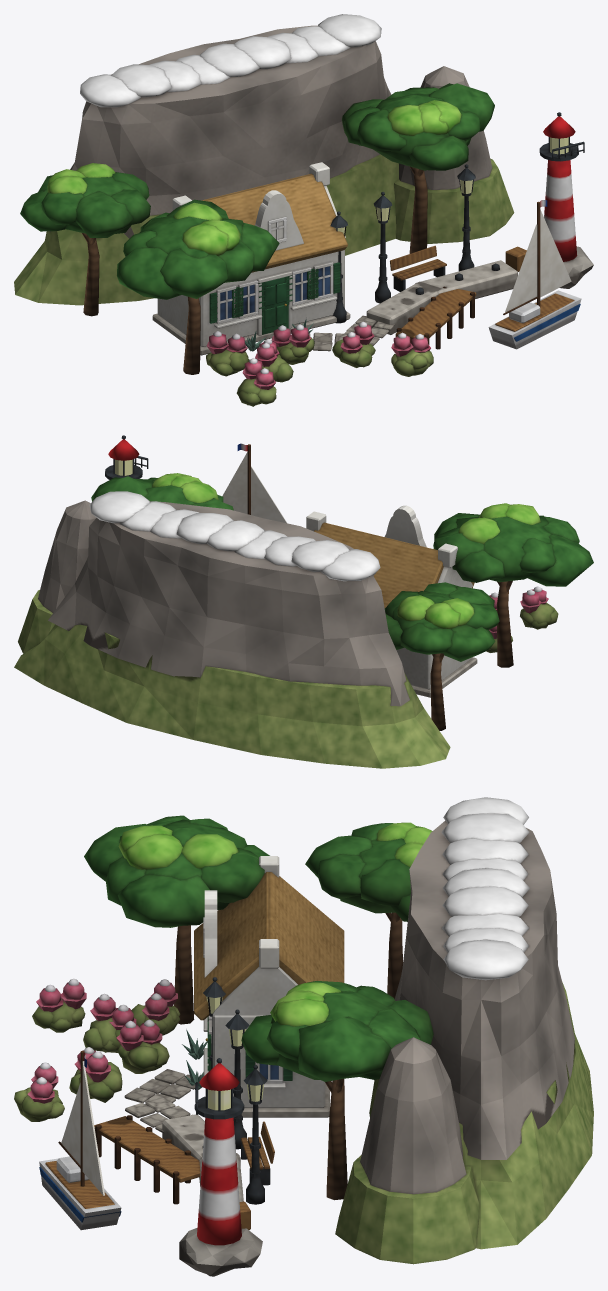
Rendered from CapeTownHarbor_Buildings.fbx.
3 renders of one model, top to bottom at view 1: azimuth 30°, elevation 25°; view 2: azimuth 150°, elevation 25°; view 3: azimuth 270°, elevation 25°, orthographic. The views are drawn at different scales.
Visible parts, largest first — view 1: S02_TableMountain, S04_CapeDutchHouse, S08_UmbrellaTree_0, S08_UmbrellaTree_1, S08_UmbrellaTree_2, S09_ProteaGarden, S03_LionsHead, S01_HarborPier, S07_Sailboat, S05_ThatchedRoof, S10_HarborLamps, S06_Lighthouse; view 2: S02_TableMountain, S08_UmbrellaTree_0, S08_UmbrellaTree_2, S03_LionsHead, S05_ThatchedRoof, S04_CapeDutchHouse, S08_UmbrellaTree_1, S07_Sailboat, S09_ProteaGarden, S06_Lighthouse; view 3: S02_TableMountain, S03_LionsHead, S08_UmbrellaTree_0, S08_UmbrellaTree_1, S09_ProteaGarden, S05_ThatchedRoof, S04_CapeDutchHouse, S06_Lighthouse, S08_UmbrellaTree_2, S01_HarborPier, S07_Sailboat, S10_HarborLamps.
Part boxes in pixels (x1,y1,x2,y2): S02_TableMountain: (14, 14, 398, 305); S04_CapeDutchHouse: (152, 162, 350, 355); S08_UmbrellaTree_0: (117, 199, 279, 374); S08_UmbrellaTree_1: (342, 83, 494, 253); S08_UmbrellaTree_2: (20, 163, 150, 316); S09_ProteaGarden: (206, 319, 433, 406); S03_LionsHead: (394, 66, 514, 243); S01_HarborPier: (308, 260, 517, 351); S07_Sailboat: (488, 200, 581, 349); S05_ThatchedRoof: (201, 173, 347, 272); S10_HarborLamps: (330, 164, 526, 323); S06_Lighthouse: (539, 112, 593, 288); S02_TableMountain: (14, 491, 450, 768); S08_UmbrellaTree_0: (433, 503, 593, 667); S08_UmbrellaTree_2: (384, 582, 499, 730); S03_LionsHead: (18, 500, 96, 653); S05_ThatchedRoof: (314, 522, 474, 607); S04_CapeDutchHouse: (306, 505, 477, 697); S08_UmbrellaTree_1: (91, 473, 233, 510); S07_Sailboat: (222, 443, 286, 523); S09_ProteaGarden: (486, 586, 558, 652); S06_Lighthouse: (105, 435, 148, 479); S02_TableMountain: (369, 797, 593, 1249); S03_LionsHead: (335, 1037, 479, 1264); S08_UmbrellaTree_0: (84, 815, 269, 1024); S08_UmbrellaTree_1: (241, 981, 433, 1200); S09_ProteaGarden: (14, 978, 207, 1121); S05_ThatchedRoof: (194, 872, 344, 1020); S04_CapeDutchHouse: (203, 856, 329, 1117); S06_Lighthouse: (179, 1058, 262, 1276); S08_UmbrellaTree_2: (305, 822, 432, 998); S01_HarborPier: (94, 1069, 243, 1204); S07_Sailboat: (39, 1050, 121, 1230); S10_HarborLamps: (202, 977, 274, 1229).
Size of the model in its own units: 15.63 by 6.34 by 12.85.
Materials: 1 (1 with a texture image).
